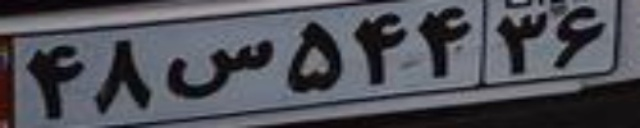3: (493, 12, 551, 75)
4: (25, 45, 83, 119), (416, 6, 471, 79), (355, 12, 406, 88)
5: (284, 20, 344, 93)
6: (556, 5, 606, 70)
8: (90, 36, 152, 114)
sin: (164, 39, 273, 98)
